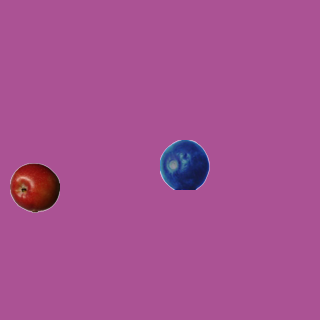Apple Braeburn: (9, 162, 59, 212)
Huckleberry: (159, 139, 209, 189)
